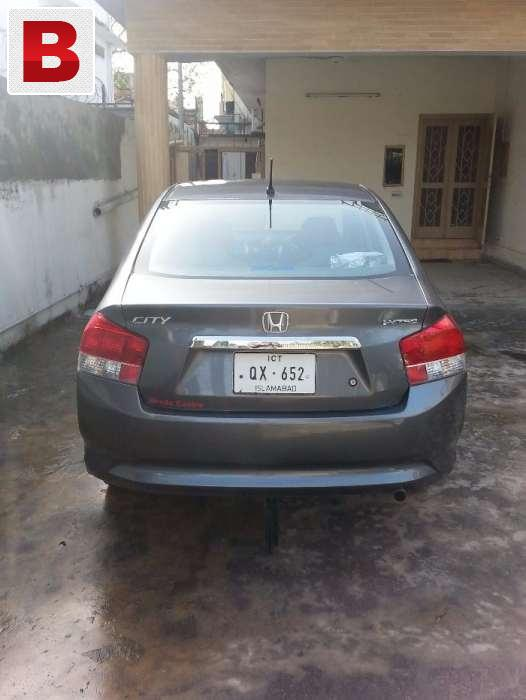Number Plate (Car): (234, 353, 315, 390)
